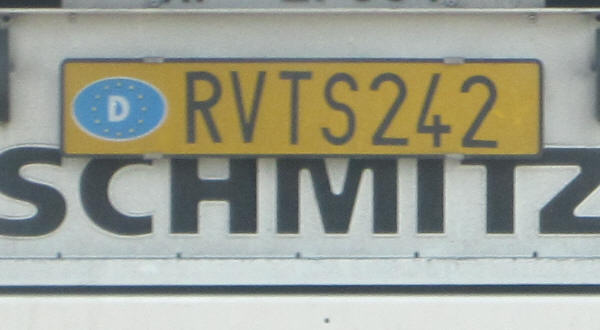license_plate: (58, 58, 543, 159)
